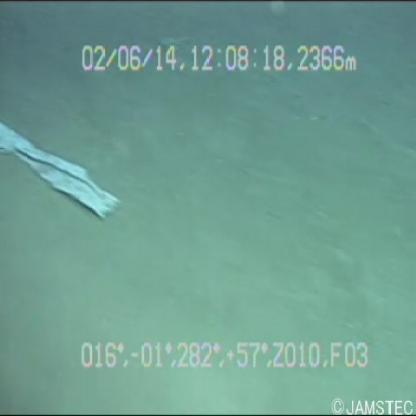Rác: (1, 80, 113, 248)
